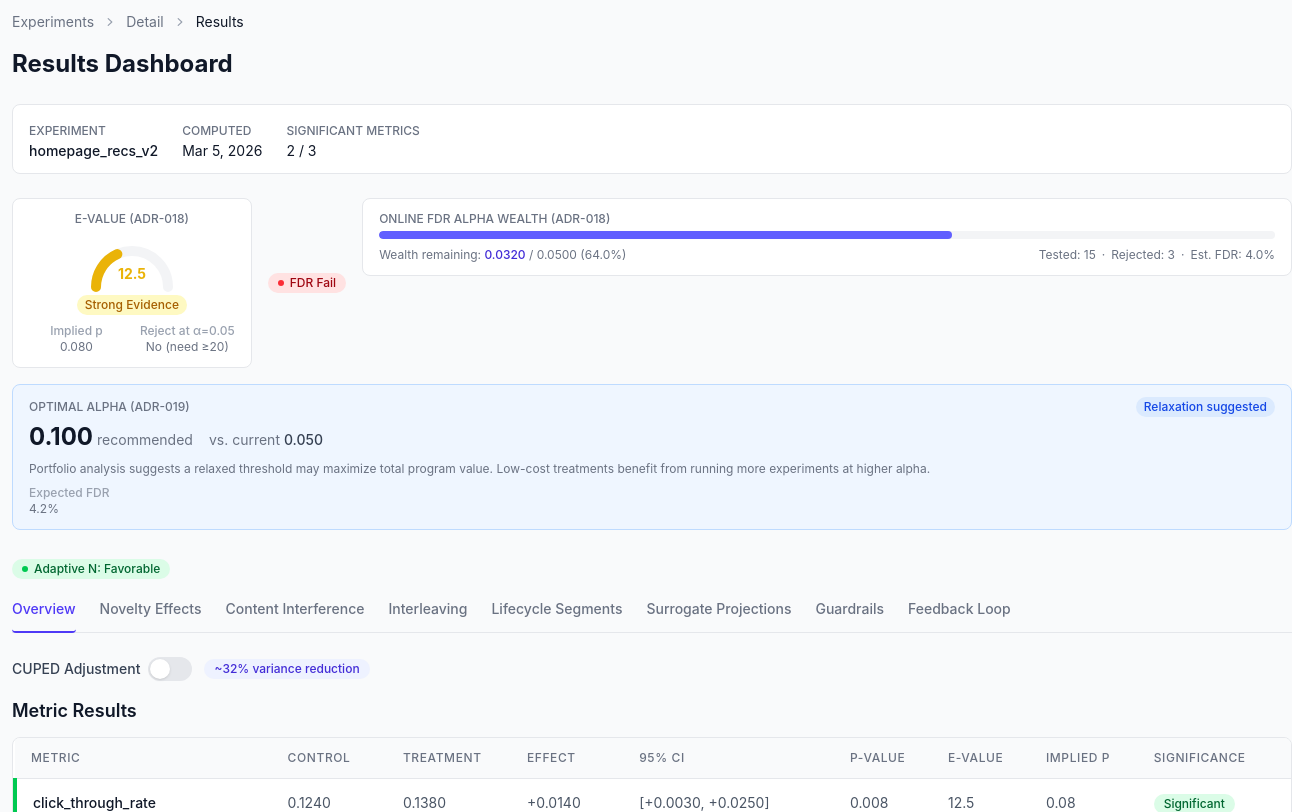
Scenario: Chaos: 404 vs 500 on analysis tabs › shows gray "no data" for 404 (data does not exist)
The image size is (1292, 812).
What coordinates should you click on to do the following:
click the tab "Interleaving"
I would click on:
 (428, 614)
Its box is [388,595,467,633].
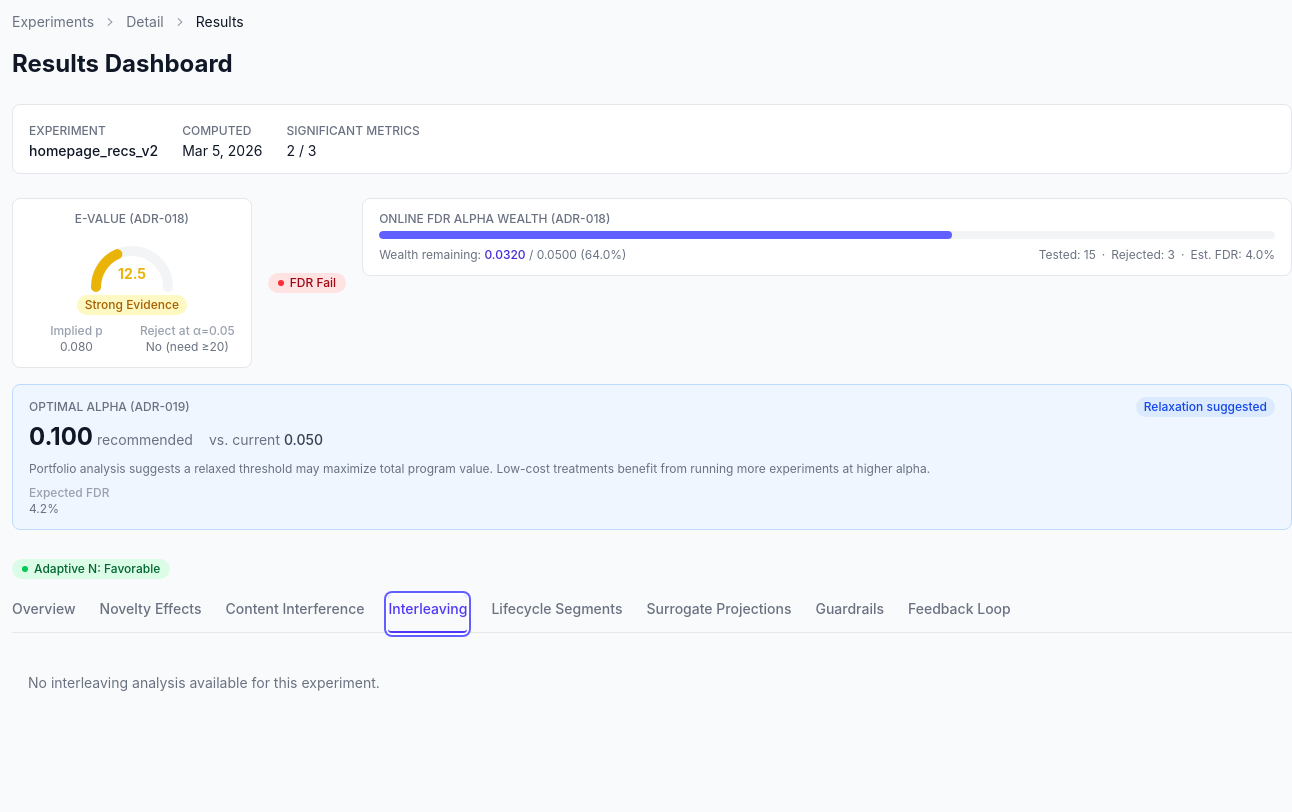
Expected: the text "No interleaving analysis available for this experiment." is shown, [12,657,1291,709]
